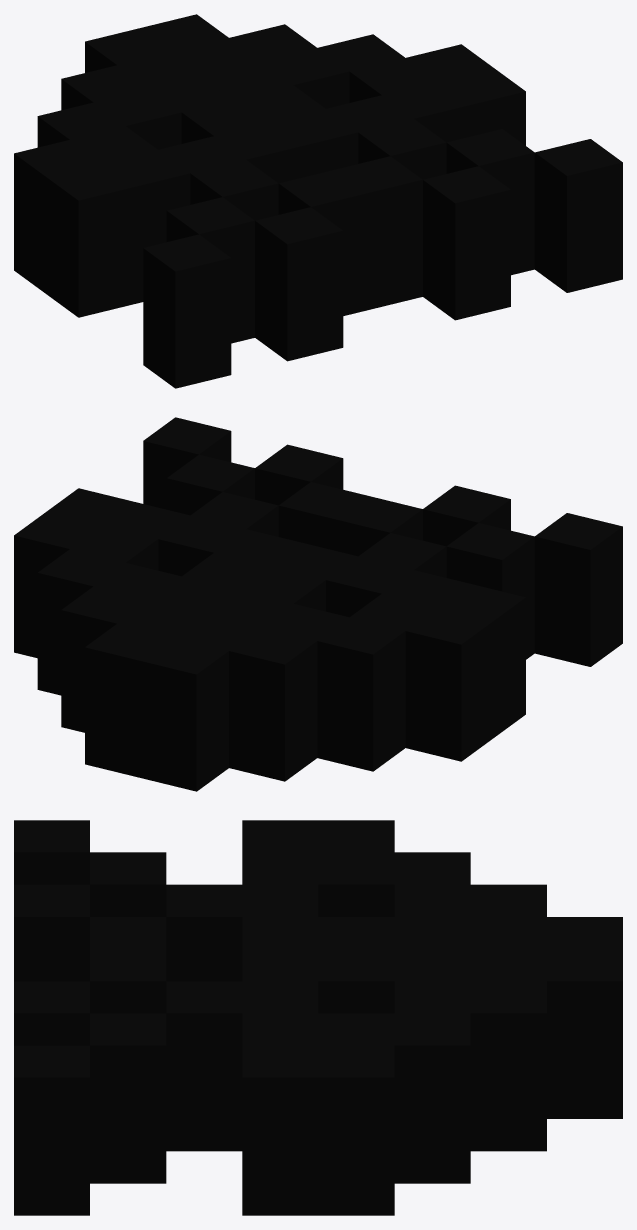
File: ennemi2.FBX
3 views of the same model, one above another, from view 1: azimuth 30°, elevation 25°; view 2: azimuth 150°, elevation 25°; view 3: azimuth 270°, elevation 25° (orthographic). The views are drawn at different scales.
Visible parts, largest first — view 1: ennemi2; view 2: ennemi2; view 3: ennemi2.
Part boxes in pixels (x1,y1,x2,y2): ennemi2: [14, 14, 622, 388]; ennemi2: [14, 417, 622, 791]; ennemi2: [14, 820, 622, 1215].
Bounding box in the file's own units: 1.6 × 0.4 × 1.6.
Materials: 1 (1 with a texture image).
